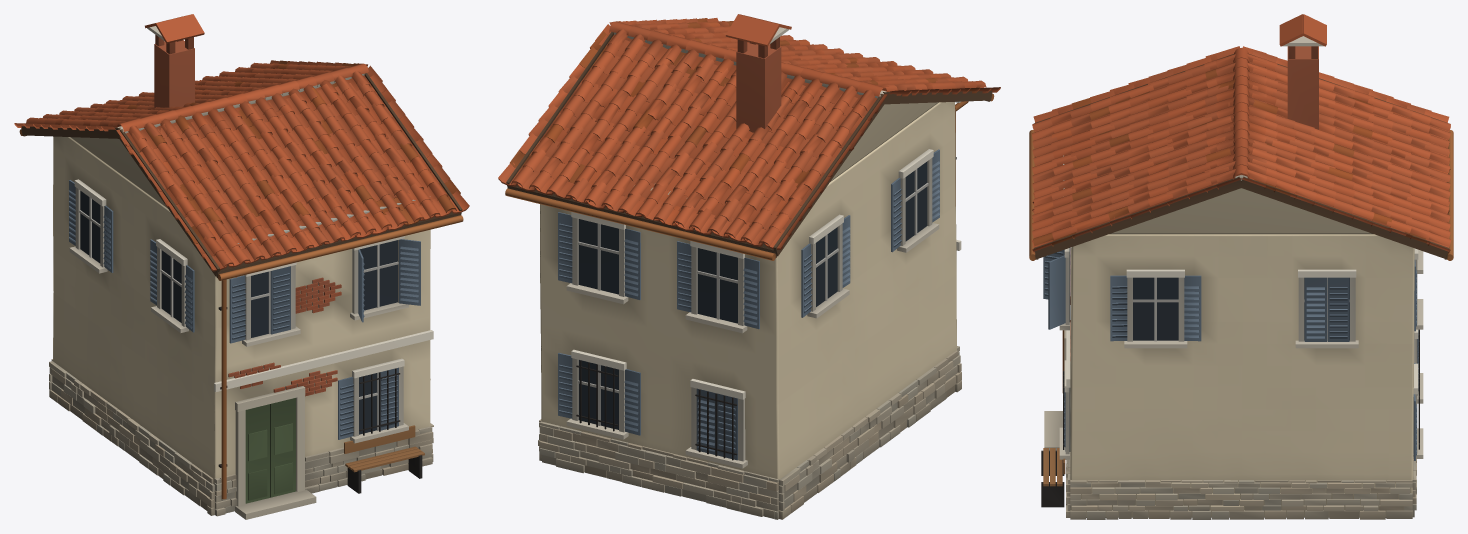
The model's file is casa_crema.glb.
3 renders of one model, left to right at view 1: azimuth 30°, elevation 25°; view 2: azimuth 150°, elevation 25°; view 3: azimuth 270°, elevation 25°, orthographic. The views are drawn at different scales.
Visible parts, largest first — view 1: casa_crema; view 2: casa_crema; view 3: casa_crema.
Boxes of the visible parts, x1=… form: casa_crema: x1=14, y1=14, x2=469, y2=519; casa_crema: x1=498, y1=14, x2=1000, y2=519; casa_crema: x1=1029, y1=14, x2=1453, y2=519.
Size of the model in its own units: 5.52 by 8.11 by 7.43.
